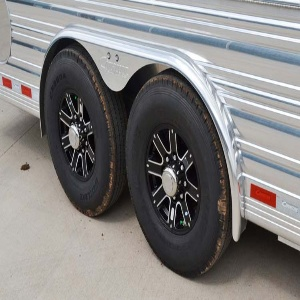tire: (124, 54, 243, 279), (39, 43, 129, 217)
